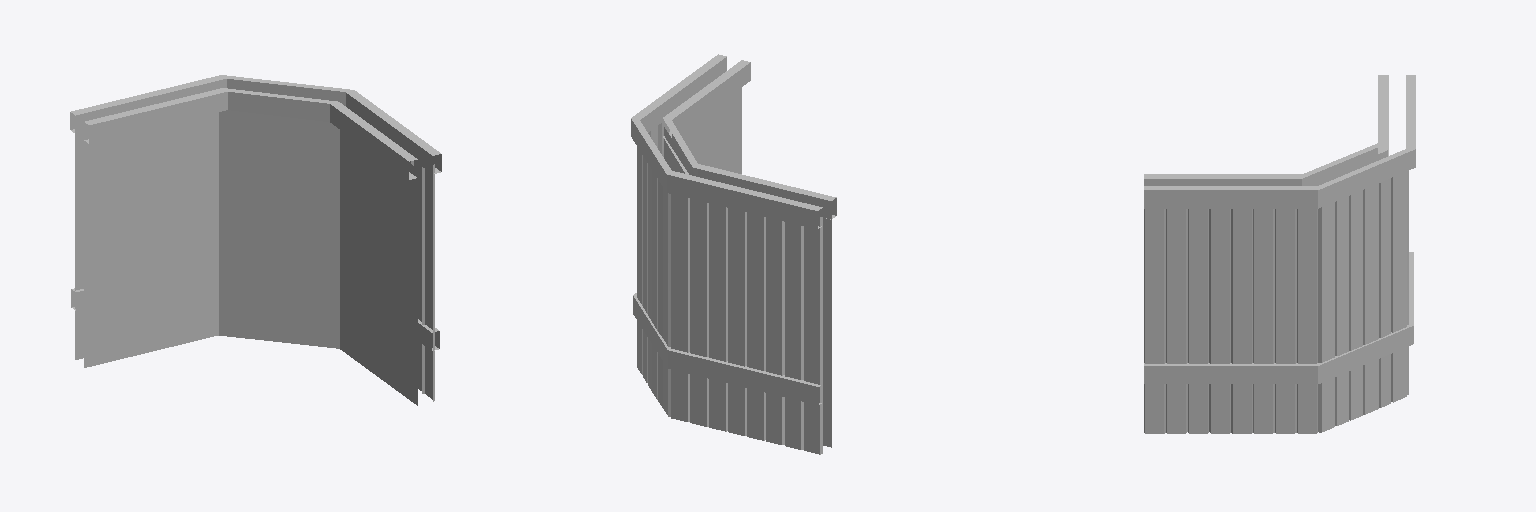
Rendered from Overhang_WoodWear_Corner_Front.obj.
The picture shows the model from 3 angles: view 1: azimuth 30°, elevation 25°; view 2: azimuth 150°, elevation 25°; view 3: azimuth 270°, elevation 25°; orthographic projection.
Parts seen in each view (by area): view 1: Overhang_WoodWear_Corner_Front; view 2: Overhang_WoodWear_Corner_Front; view 3: Overhang_WoodWear_Corner_Front.
Boxes of the visible parts, box(x1,y1,x2,y2) form: Overhang_WoodWear_Corner_Front: box(70, 75, 441, 405); Overhang_WoodWear_Corner_Front: box(631, 54, 836, 454); Overhang_WoodWear_Corner_Front: box(1144, 75, 1415, 433).
Bounding box in the file's own units: 3.12 × 3.12 × 3.12.